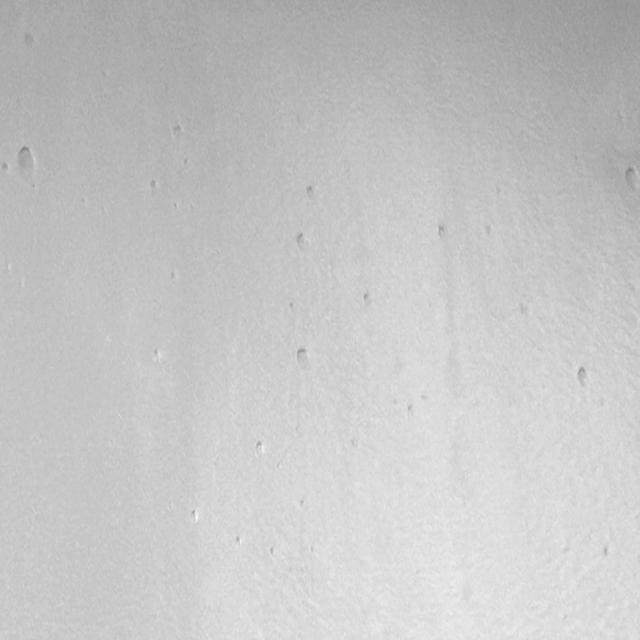pin holes: (16, 146, 39, 178), (572, 365, 594, 392), (622, 165, 640, 192), (293, 346, 312, 370), (302, 183, 322, 205), (22, 30, 40, 54), (169, 122, 185, 143), (295, 230, 311, 251), (254, 439, 270, 459), (361, 290, 376, 308), (188, 508, 201, 526), (287, 299, 300, 317), (436, 224, 449, 241), (296, 497, 310, 512), (418, 391, 432, 405), (233, 535, 246, 550), (148, 180, 160, 196), (152, 346, 164, 362), (405, 404, 417, 419), (168, 269, 180, 284), (267, 545, 280, 558), (0, 160, 10, 176), (520, 301, 530, 316)
